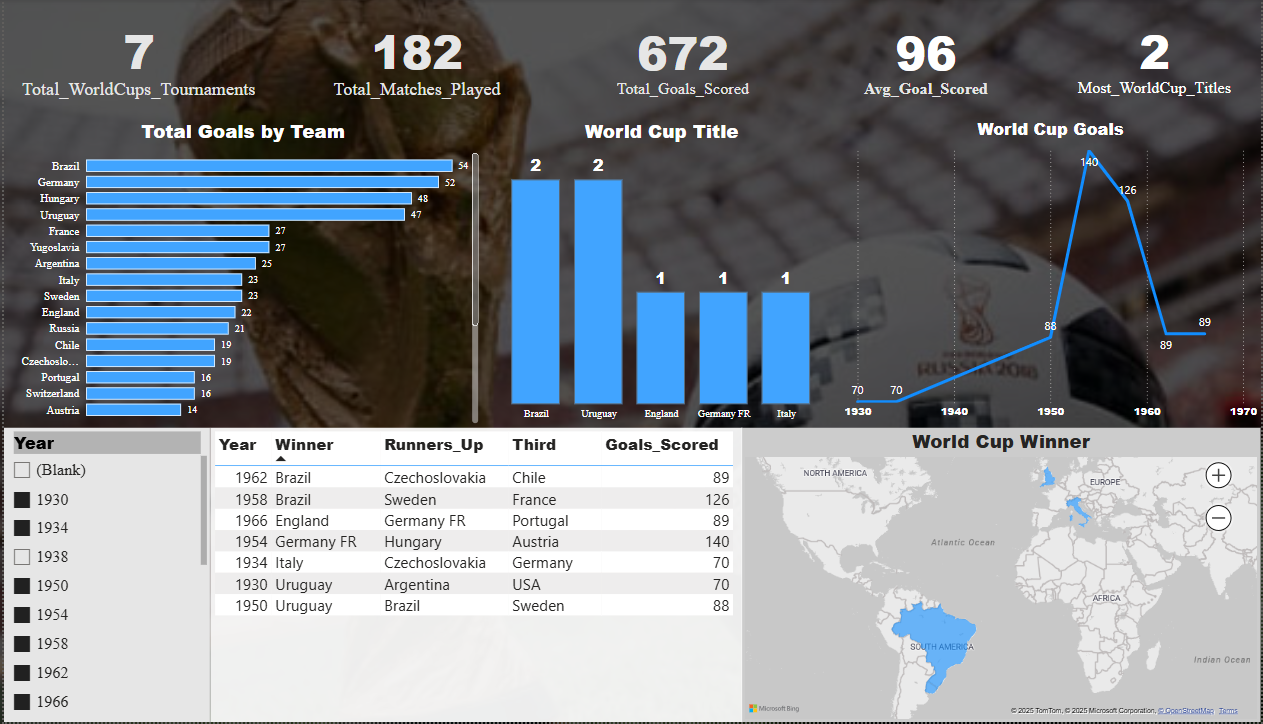

What the dashboard file says about the page in this screenshot:
{"tool":"powerbi","page":{"name":" World Cup Overview ","canvas":[1650,950],"ordinal":0},"visuals":[{"type":"card","fields":{"Values":["worldcup_2022 winning_worldcups_db.Total_WorldCups_Tournaments"]},"box":[0,0,354.2,156.1],"z":0},{"type":"card","fields":{"Values":["worldcup_2022 winning_worldcups_db.Total_Matches_Played"]},"box":[354.2,1.7,376.1,154.5],"z":1000},{"type":"card","fields":{"Values":["worldcup_2022 winning_worldcups_db.Total_Goals_Scored"]},"box":[730.3,1.7,322.3,154.5],"z":2000},{"type":"card","fields":{"Values":["worldcup_2022 winning_worldcups_db.Avg_Goal_Scored"]},"box":[1052.7,1.7,317.3,154.5],"z":3000},{"type":"card","fields":{"Values":["worldcup_2022 winning_worldcups_db.Most_WorldCup_Titles"]},"box":[1370,0,280.4,156.1],"z":4000},{"type":"lineChart","title":"World Cup Goals","fields":{"Y":["worldcup_2022 winning_worldcups_db.Total_Goals_Per_WC_Year"],"Category":["worldcup_2022 winning_worldcups_db.Year"]},"box":[1098,156.1,552.4,406.3],"z":5000},{"type":"columnChart","title":"World Cup Title","fields":{"Category":["worldcup_2022 winning_worldcups_db.Winner"],"Y":["worldcup_2022 winning_worldcups_db.World Cup Titles"]},"box":[627.9,156.1,470.1,406.3],"z":6000},{"type":"filledMap","title":"World Cup Winner","fields":{"Category":["worldcup_2022 winning_worldcups_db.Winner","worldcup_2022 winning_worldcups_db.Year"]},"box":[968.7,562.4,681.6,387.8],"z":7000},{"type":"clusteredBarChart","title":"Total Goals by Team","fields":{"Y":["worldcup_2022 world_cup_matches_db.Total_Goals_by_Team"],"Category":["World_Cup_Matches_Teams.World_Cup_Matches_Teams"]},"box":[0,156.1,627.9,406.3],"z":8000},{"type":"tableEx","fields":{"Values":["worldcup_2022 winning_worldcups_db.Year","worldcup_2022 winning_worldcups_db.Winner","worldcup_2022 winning_worldcups_db.Runners_Up","worldcup_2022 winning_worldcups_db.Third","worldcup_2022 winning_worldcups_db.Goals_Scored"]},"box":[270.3,562.4,698.4,387.8],"z":9000},{"type":"slicer","fields":{"Values":["worldcup_2022 winning_worldcups_db.Year"]},"box":[0,562.4,270.3,387.8],"z":10000}]}

Visuals, with their boxes in screenshot pixels (x1, y1, x2, y2), scaled from the page's 1650x950 canvas onto the 1263x724 screenshot:
card - worldcup_2022 winning_worldcups_db.Total_WorldCups_Tournaments: pyautogui.locateOnScreen(0, 0, 271, 119)
card - worldcup_2022 winning_worldcups_db.Total_Matches_Played: pyautogui.locateOnScreen(271, 1, 559, 119)
card - worldcup_2022 winning_worldcups_db.Total_Goals_Scored: pyautogui.locateOnScreen(559, 1, 806, 119)
card - worldcup_2022 winning_worldcups_db.Avg_Goal_Scored: pyautogui.locateOnScreen(806, 1, 1049, 119)
card - worldcup_2022 winning_worldcups_db.Most_WorldCup_Titles: pyautogui.locateOnScreen(1049, 0, 1262, 119)
"World Cup Goals" lineChart: pyautogui.locateOnScreen(840, 119, 1262, 429)
"World Cup Title" columnChart: pyautogui.locateOnScreen(481, 119, 840, 429)
"World Cup Winner" filledMap: pyautogui.locateOnScreen(741, 429, 1262, 723)
"Total Goals by Team" clusteredBarChart: pyautogui.locateOnScreen(0, 119, 481, 429)
tableEx - worldcup_2022 winning_worldcups_db.Year x worldcup_2022 winning_worldcups_db.Winner: pyautogui.locateOnScreen(207, 429, 741, 723)
slicer - worldcup_2022 winning_worldcups_db.Year: pyautogui.locateOnScreen(0, 429, 207, 723)
